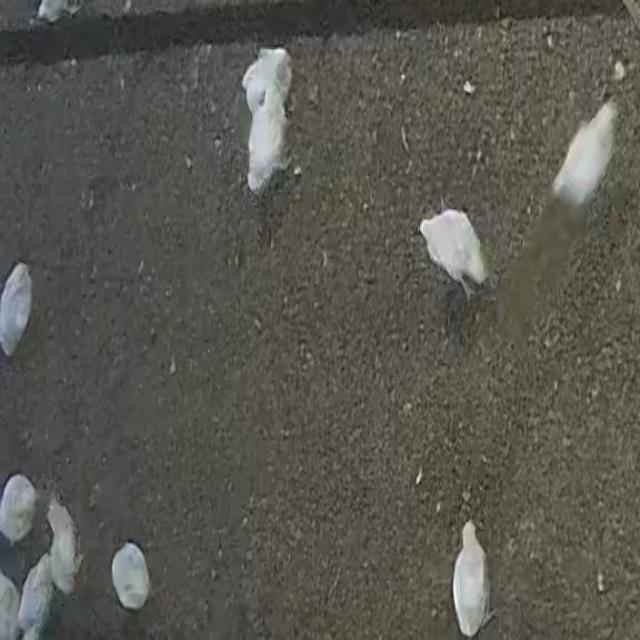chicken: (557, 101, 617, 208), (423, 211, 491, 296), (451, 519, 498, 636), (245, 86, 285, 195), (44, 499, 87, 597), (242, 45, 292, 118), (15, 554, 54, 640), (0, 262, 33, 358), (109, 544, 149, 609), (0, 476, 34, 544)
